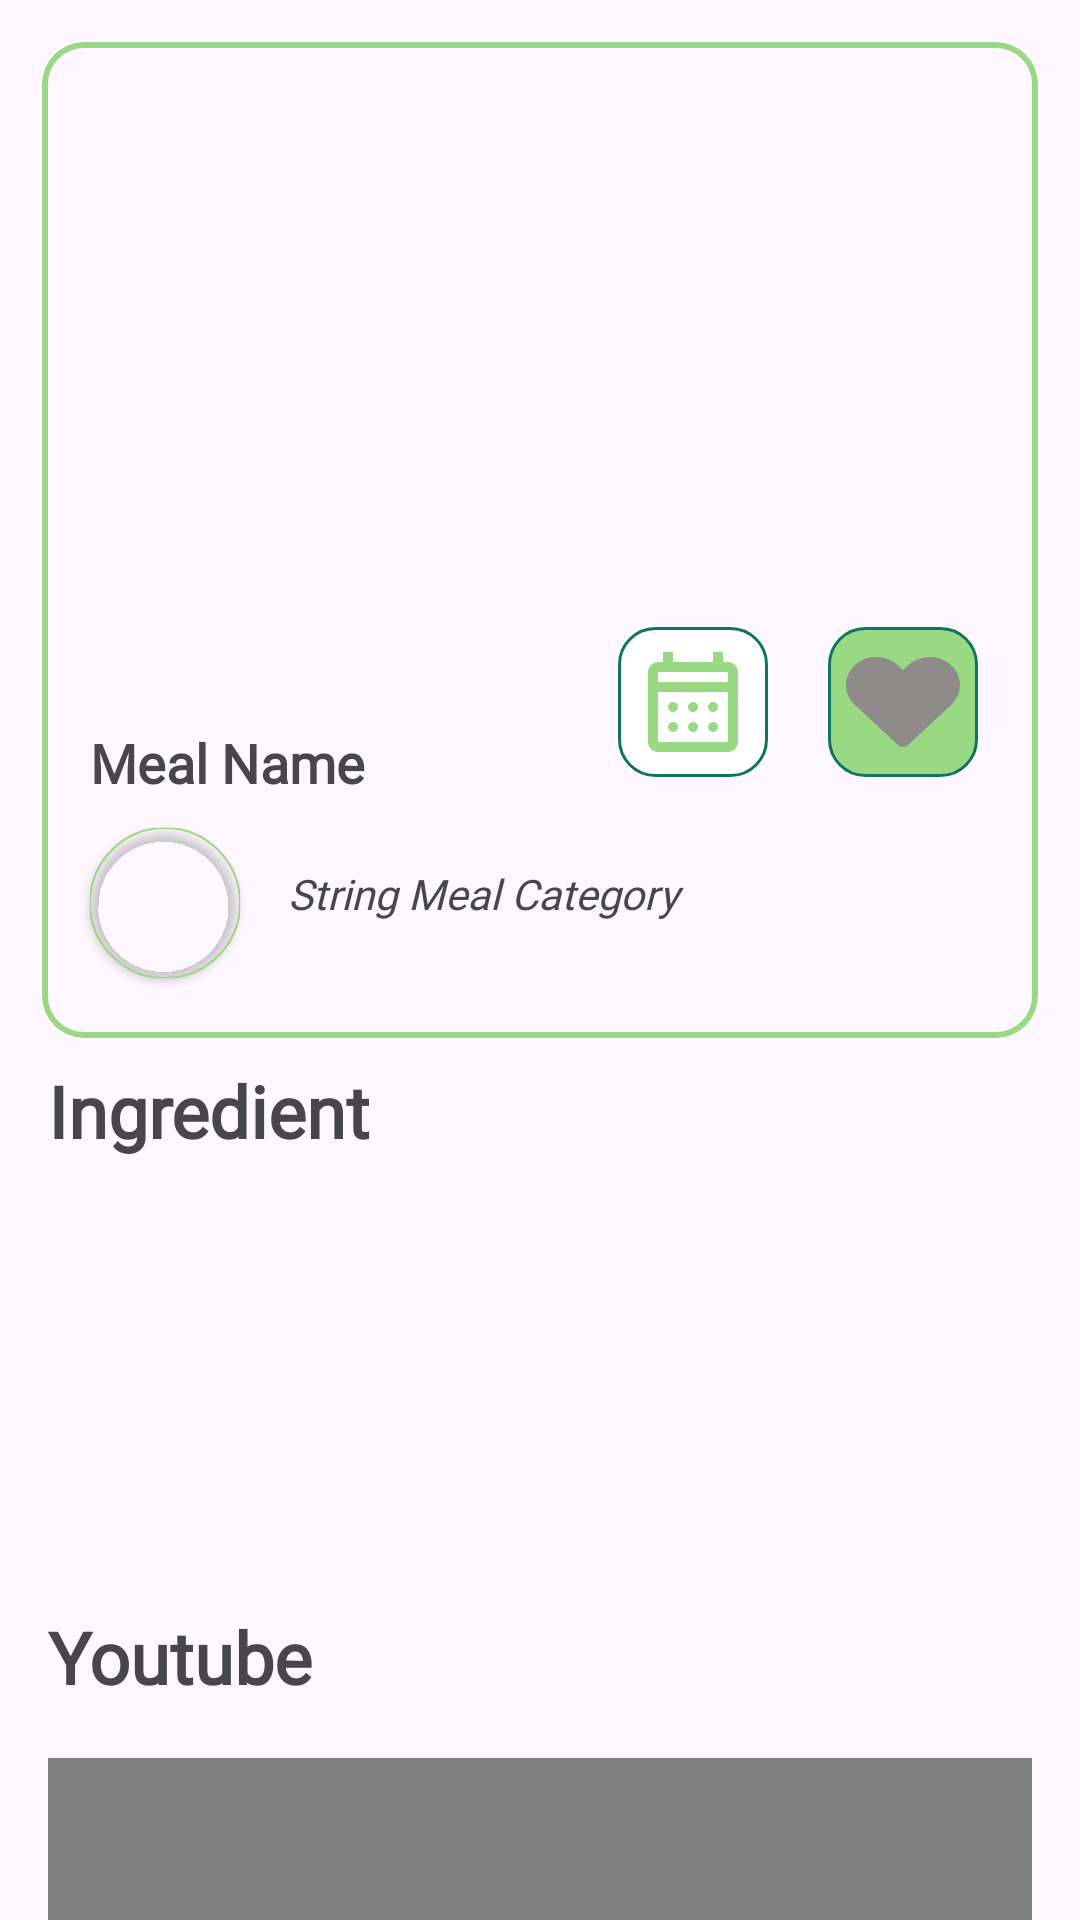

Named icons in this screenshot (1080px×1920px) and their centers, point (x, y):
calendar: point (693, 702)
heart: point (903, 702)
